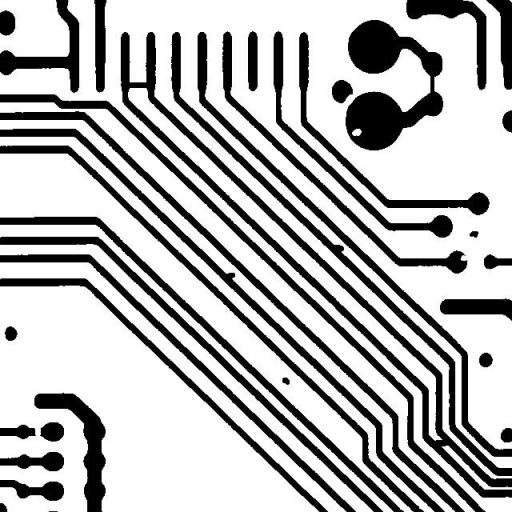copper: (462, 223, 486, 245), (274, 370, 297, 392)
mousebite: (453, 247, 474, 268)
open: (336, 86, 362, 114), (26, 416, 48, 444)
pin-hole: (344, 121, 369, 143)
short: (114, 74, 155, 96), (422, 432, 458, 454), (422, 64, 442, 102)
spur: (216, 264, 242, 290), (324, 237, 351, 259)
